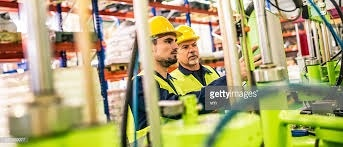helmet: (150, 15, 183, 38), (176, 23, 202, 46)
person with partial safety: (152, 15, 180, 77), (176, 25, 205, 72)
safety vest: (122, 75, 182, 125), (175, 67, 221, 111)
